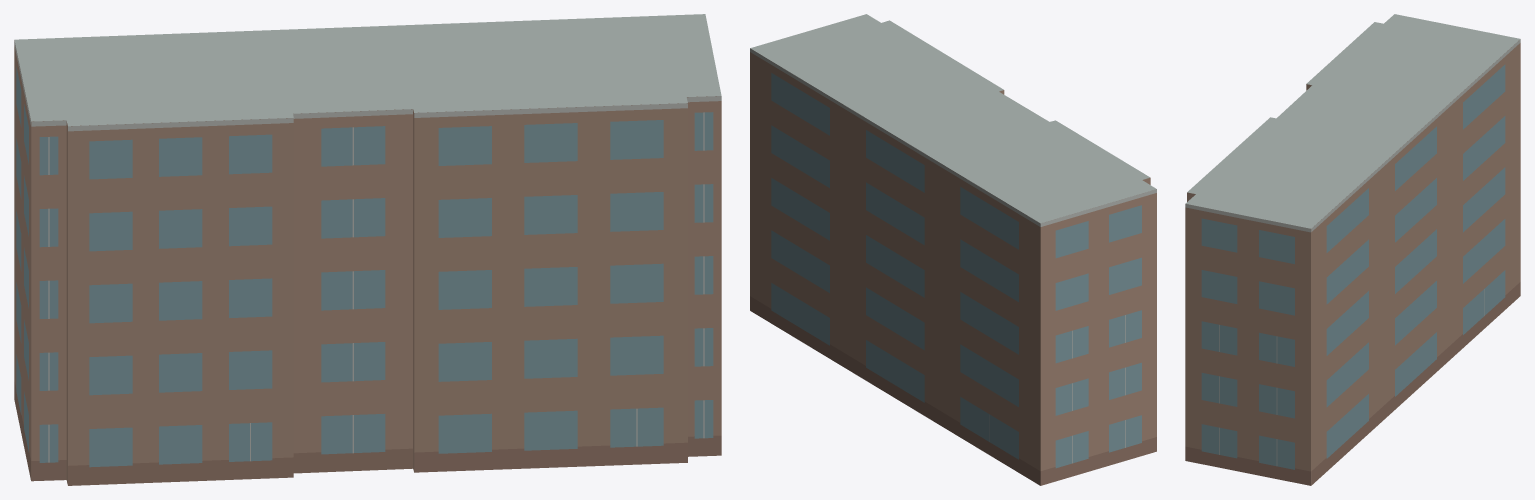
Rendered from survey-upis-32881938.glb.
3 renders of one model, left to right at view 1: azimuth 30°, elevation 25°; view 2: azimuth 150°, elevation 25°; view 3: azimuth 270°, elevation 25°, orthographic. The views are drawn at different scales.
Visible parts, largest first — view 1: survey-upis-32881938.tmp; view 2: survey-upis-32881938.tmp; view 3: survey-upis-32881938.tmp.
Part boxes in pixels (x1,y1,x2,y2): survey-upis-32881938.tmp: (14,14,721,485); survey-upis-32881938.tmp: (750,14,1156,485); survey-upis-32881938.tmp: (1185,14,1520,485).
Size of the model in its own units: 30.65 by 17.1 by 20.21.
